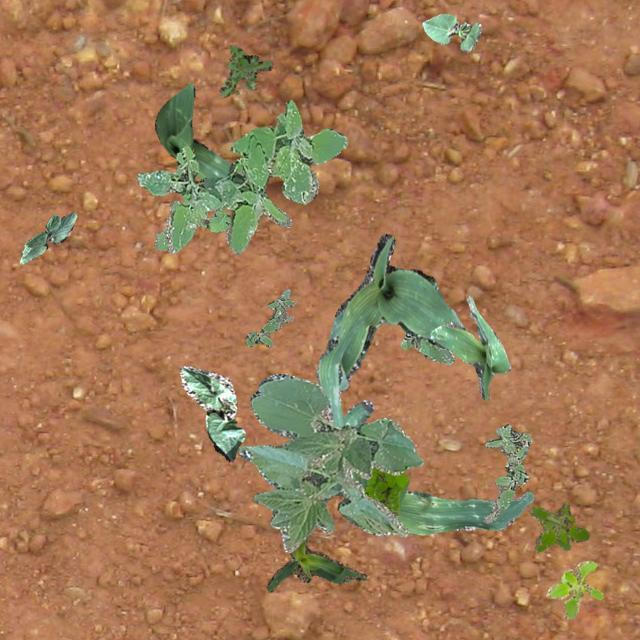crop: (238, 372, 422, 552), (314, 233, 462, 427), (342, 399, 534, 534), (430, 294, 510, 400), (153, 82, 230, 178), (178, 364, 244, 460), (266, 536, 366, 590), (18, 212, 76, 262), (421, 12, 479, 50)
weed: (136, 99, 346, 254), (482, 422, 530, 522), (154, 200, 230, 250), (546, 560, 602, 618), (528, 501, 588, 552), (244, 288, 294, 346), (218, 44, 272, 96), (362, 464, 408, 514), (399, 330, 454, 364)
